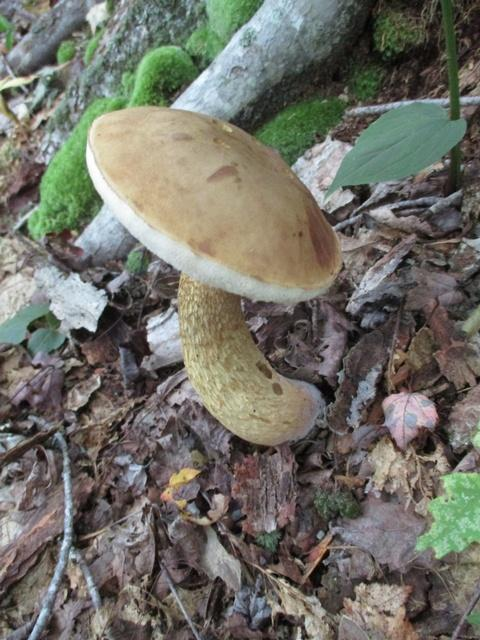poisonous_mushroom: (82, 103, 344, 447)
